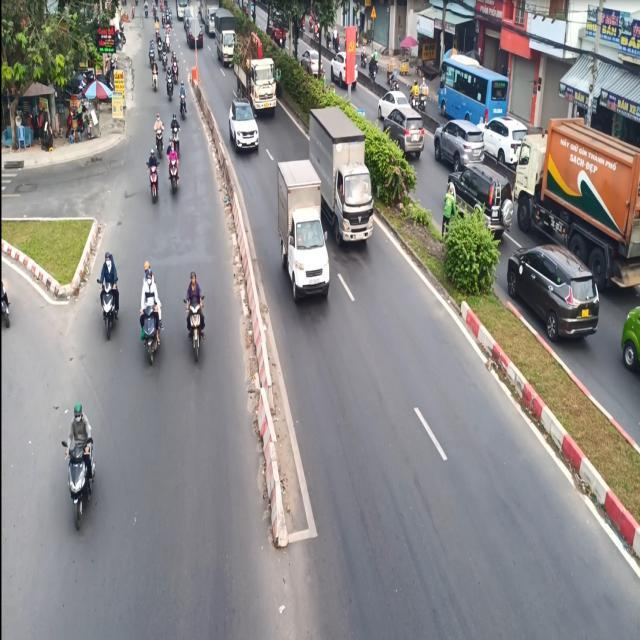bus: (436, 51, 509, 125)
car: (506, 243, 600, 342), (453, 163, 521, 235), (435, 117, 491, 177), (384, 106, 432, 163), (220, 101, 268, 151), (620, 305, 639, 373), (329, 50, 361, 90), (376, 90, 413, 116)
motorcycle: (61, 438, 95, 530), (182, 295, 205, 361), (139, 300, 162, 365), (96, 278, 118, 340), (148, 163, 161, 206)
person: (64, 404, 94, 451), (98, 250, 121, 288), (141, 264, 160, 308), (183, 271, 204, 303)
truck: (512, 116, 639, 291), (268, 165, 340, 300), (306, 104, 374, 246), (216, 10, 250, 65)
